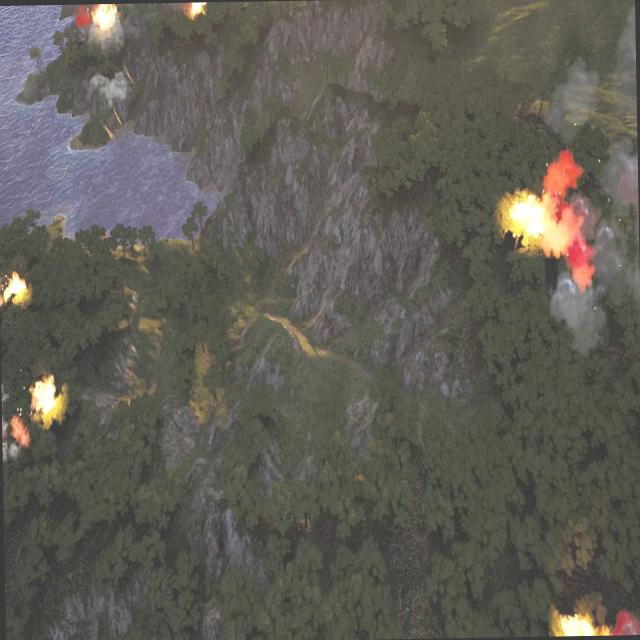fire: (507, 188, 572, 259), (553, 612, 610, 636), (31, 376, 60, 418), (0, 272, 28, 304), (91, 4, 116, 28), (184, 2, 203, 18)
smoke: (537, 0, 639, 362), (2, 388, 26, 462), (87, 69, 128, 108)
